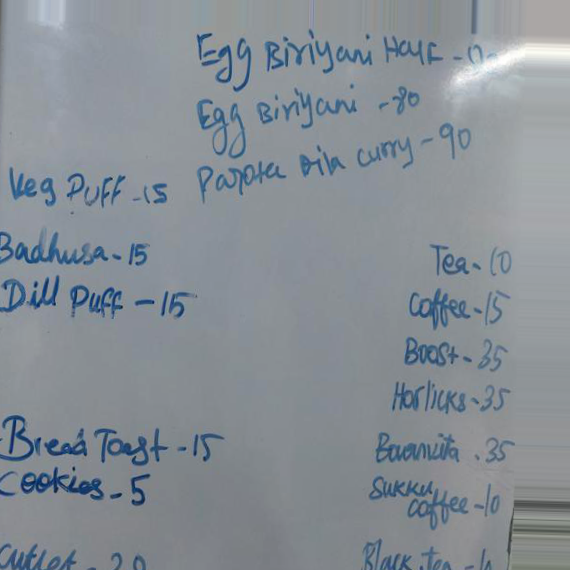Tea - 10: (424, 237, 520, 286)
badhusa -15: (1, 225, 157, 274)
boost - 35: (402, 334, 513, 375)
bournvita - 35: (373, 426, 517, 475)
bread toast - 15: (1, 411, 234, 469)
coffee - 15: (402, 283, 515, 331)
cookies - 5: (1, 469, 157, 512)
dill puff - 15: (1, 275, 202, 325)
egg briyani - 80: (189, 86, 366, 140)
egg briyani half -50: (185, 28, 515, 81)
horlicks - 35: (388, 375, 513, 423)
parotta - 90: (191, 141, 421, 208)
sukku coffee - 10: (369, 474, 510, 528)
veg puff - 15: (4, 160, 180, 215)
